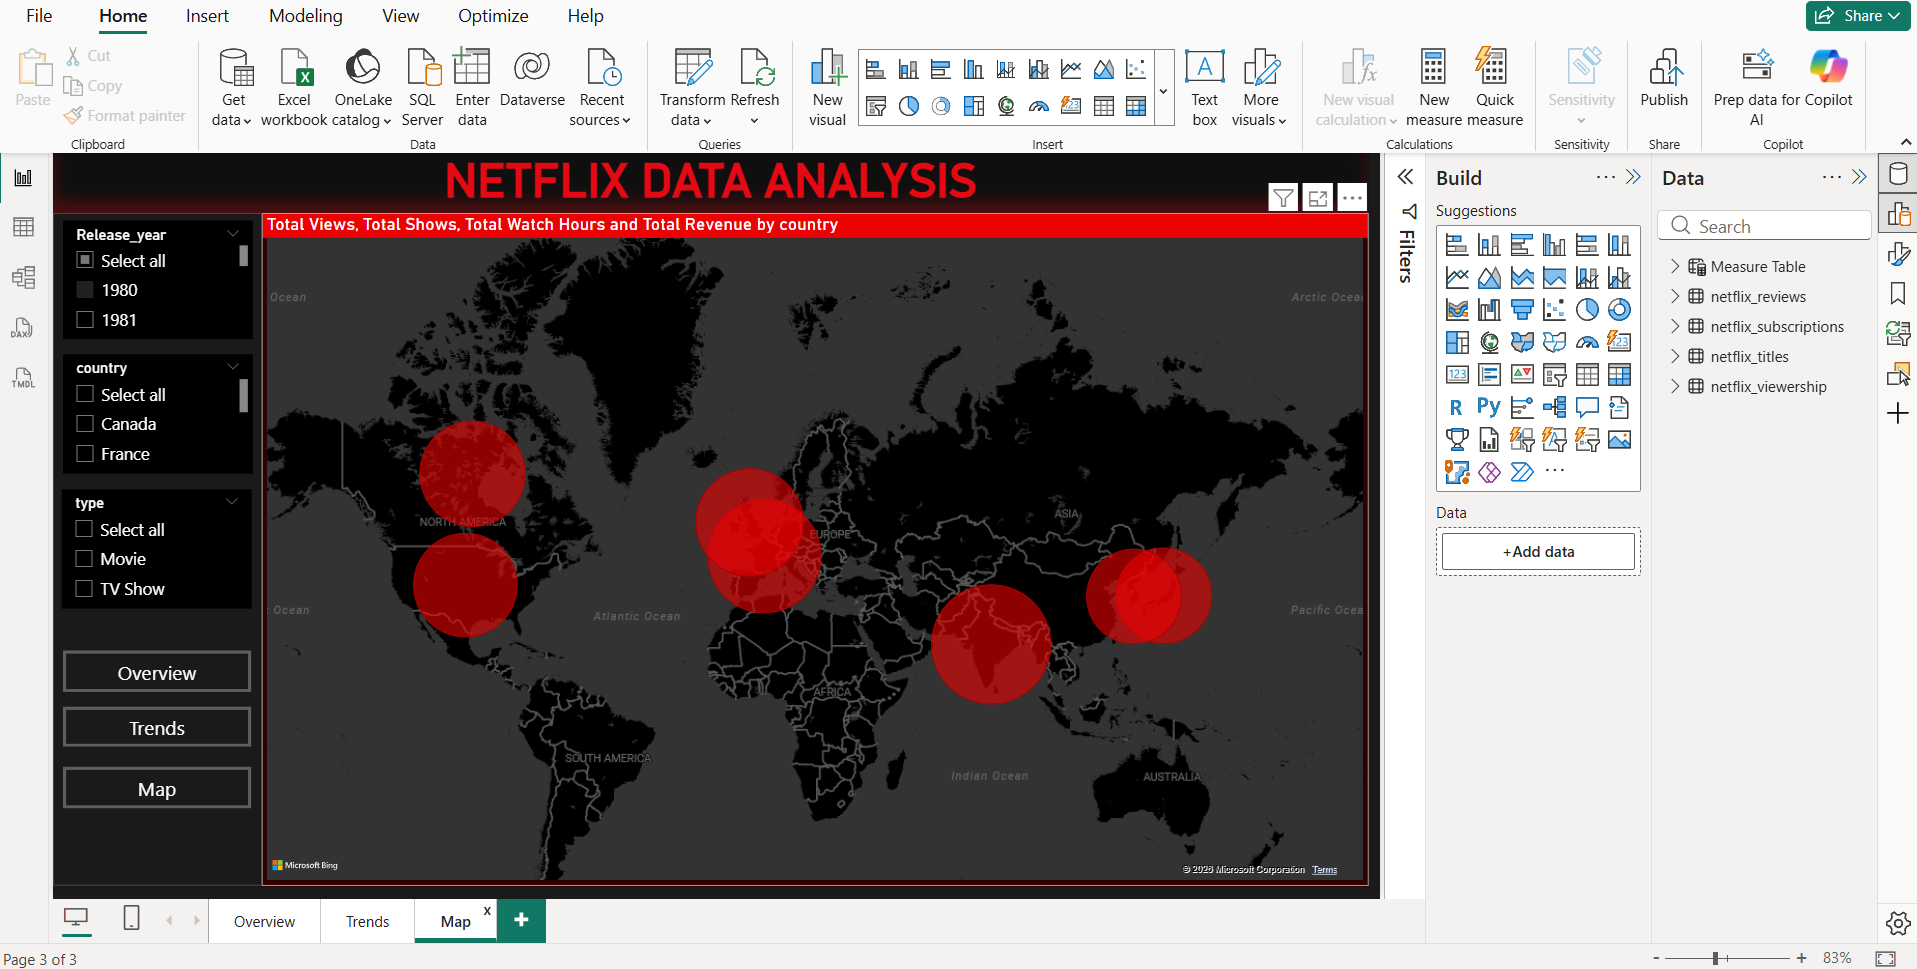

What the dashboard file says about the page in this screenshot:
{"tool":"powerbi","page":{"name":"Map","canvas":[1280,720],"ordinal":2},"visuals":[{"type":"textbox","title":"NETFLIX DATA ANALYSIS","box":[0,0,1269.6,57.7],"z":0},{"type":"actionButton","box":[10.1,480.4,181.6,40.2],"z":0,"group":"g1"},{"type":"shape","box":[0,57.7,202,649.2],"z":1000},{"type":"actionButton","box":[10.1,592.4,181.6,40.2],"z":1000,"group":"g1"},{"type":"map","fields":{"Size":["Measure Table.Total Views"],"Category":["netflix_titles.country"]},"box":[202,57.7,1067.6,649.2],"z":2000},{"type":"actionButton","box":[10.1,535,181.6,38.8],"z":2000,"group":"g1"},{"type":"slicer","fields":{"Values":["netflix_titles.release_year"]},"box":[9.7,65.1,183.4,114.6],"z":2001},{"type":"slicer","fields":{"Values":["netflix_titles.country"]},"box":[10.1,194.8,183.2,115.4],"z":2002},{"type":"slicer","fields":{"Values":["netflix_titles.type"]},"box":[8.7,324.6,183.2,115.4],"z":2003},{"type":"group","id":"g1","title":"Navigation Buttons","box":[10.1,480.4,181.8,151.5],"z":2004}]}

Visuals, with their boxes on the page's 1280x720 design canvas (x1, y1, x2, y2). These are canvas units, not pixel positions in the 1917x969 screenshot, which may show the page scaled, cropped or inside an application window:
"NETFLIX DATA ANALYSIS" textbox: box(0, 0, 1270, 58)
actionButton: box(10, 480, 192, 521)
shape: box(0, 58, 202, 707)
actionButton: box(10, 592, 192, 633)
map - Measure Table.Total Views x netflix_titles.country: box(202, 58, 1270, 707)
actionButton: box(10, 535, 192, 574)
slicer - netflix_titles.release_year: box(10, 65, 193, 180)
slicer - netflix_titles.country: box(10, 195, 193, 310)
slicer - netflix_titles.type: box(9, 325, 192, 440)
"Navigation Buttons" group: box(10, 480, 192, 632)
